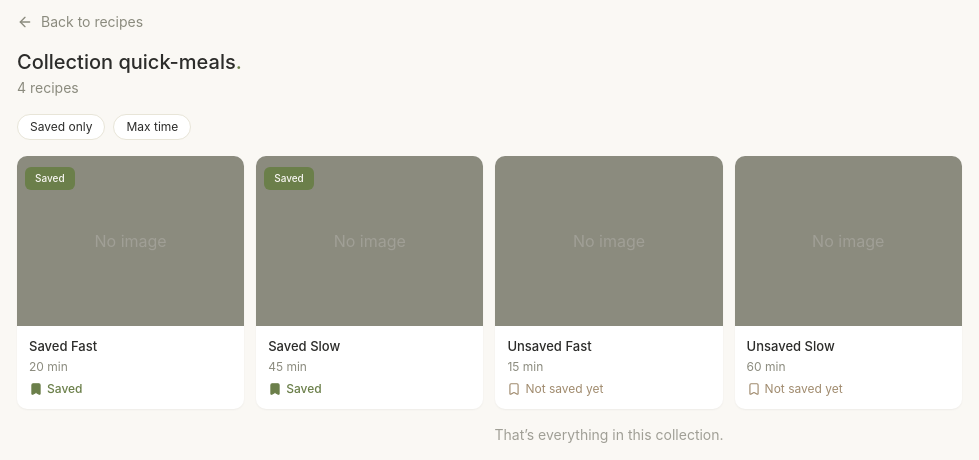
Scenario: AC4 — Saved only and Max time filters › "Saved only" hides cards where is_persisted is false
Check: the heading "Saved Fast" is shown, box x1=29 y1=338 x2=97 y2=354
Click the button "Saved only".
click(61, 127)  # box x1=17 y1=114 x2=106 y2=140
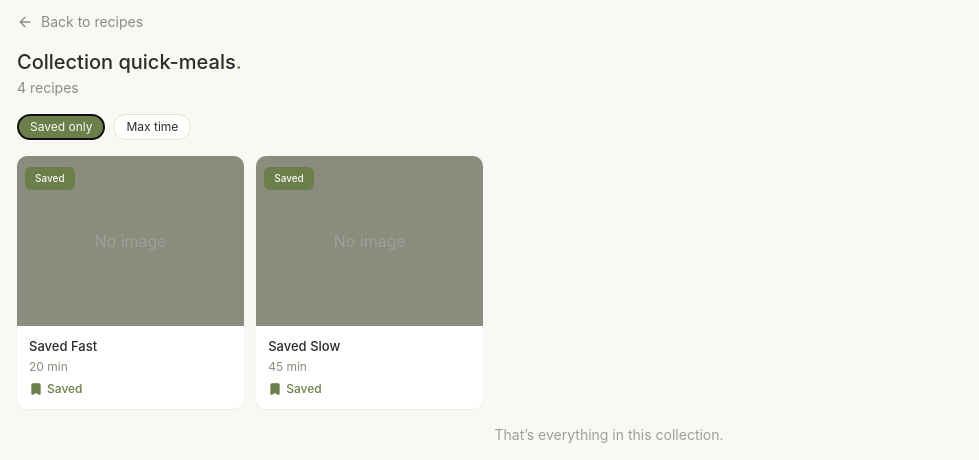
Check: the heading "Saved Fast" is shown, box x1=29 y1=338 x2=97 y2=354
Check: the button "Unsaved Fast" is gone
Check: the button "Unsaved Slow" is gone
